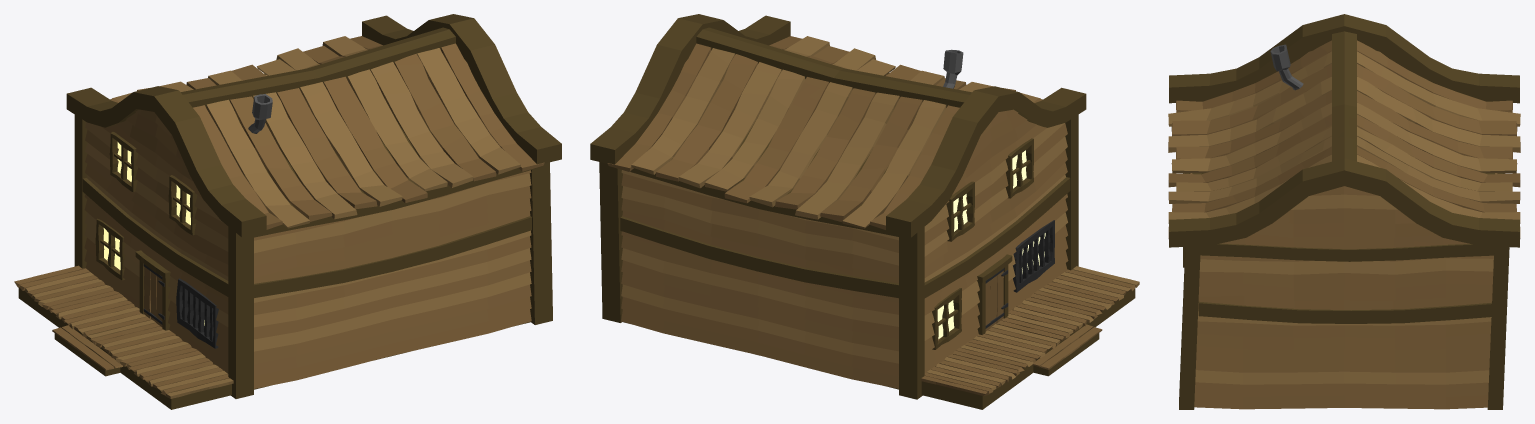
File: sheriff.glb
The picture shows the model from 3 angles, left to right: view 1: azimuth 30°, elevation 25°; view 2: azimuth 150°, elevation 25°; view 3: azimuth 270°, elevation 25°; orthographic projection.
Parts seen in each view (by area): view 1: Cube.007; view 2: Cube.007; view 3: Cube.007.
Boxes of the visible parts, left/top/right/bottom form: Cube.007: left=14, top=14, right=561, bottom=409; Cube.007: left=590, top=14, right=1139, bottom=409; Cube.007: left=1168, top=14, right=1520, bottom=409.
Bounding box in the file's own units: 12 × 7.19 × 9.23.
